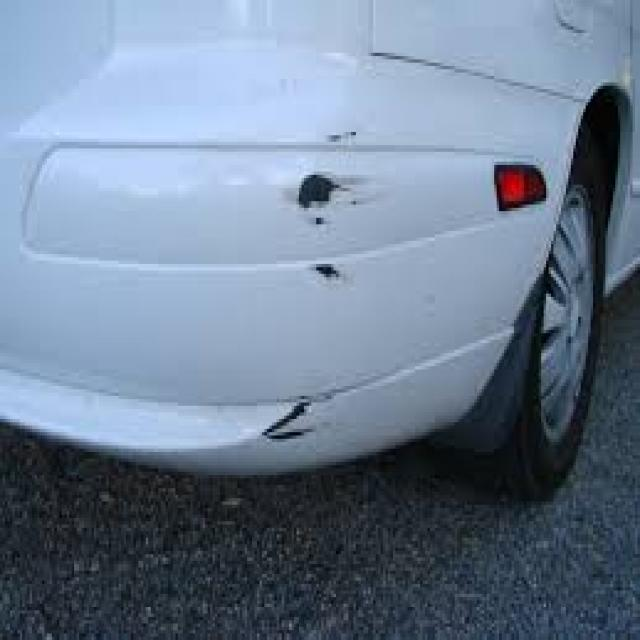minor: (297, 120, 373, 306), (249, 394, 376, 458)
